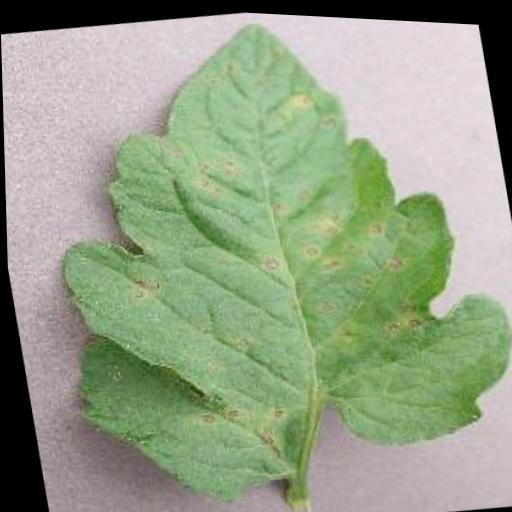Septoria: (24, 1, 512, 512)
